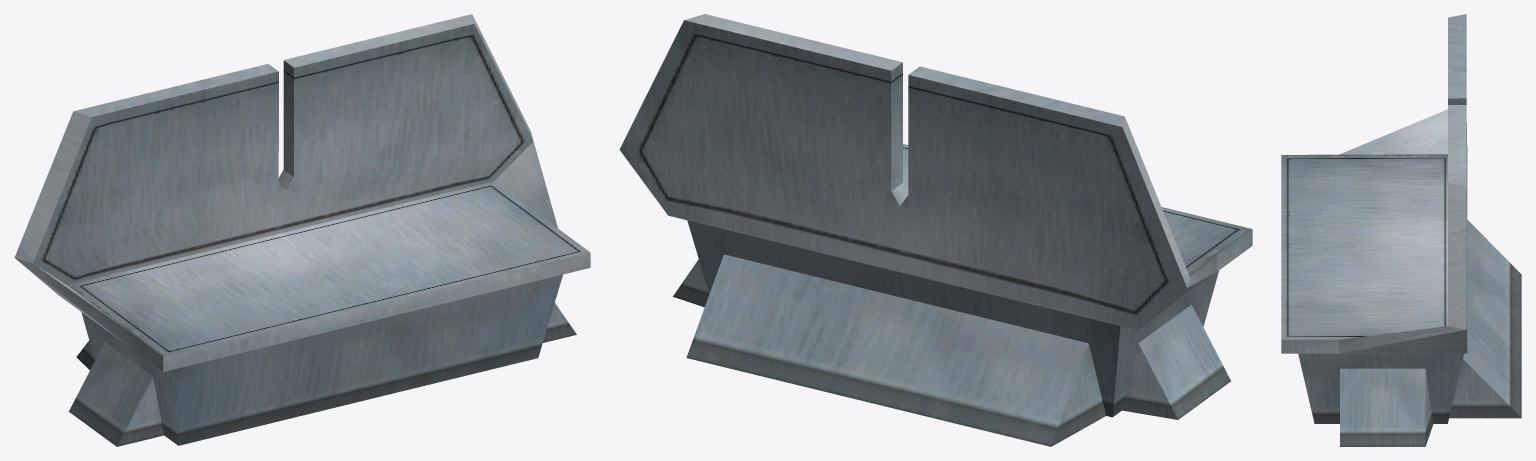
File: frn_all_tech_love_seat_s01_l0.fbx
3 renders of one model, left to right at view 1: azimuth 30°, elevation 25°; view 2: azimuth 150°, elevation 25°; view 3: azimuth 270°, elevation 25°, orthographic. The views are drawn at different scales.
Visible parts, largest first — view 1: mesh_node; view 2: mesh_node; view 3: mesh_node.
Part boxes in pixels (left/top/right/bottom): mesh_node: left=14, top=14, right=590, bottom=446; mesh_node: left=619, top=14, right=1252, bottom=446; mesh_node: left=1281, top=14, right=1521, bottom=446.
Size of the model in its own units: 1.96 by 1 by 0.8868.
